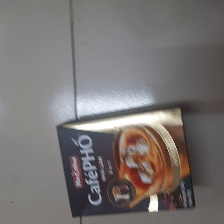CF pho: (54, 104, 197, 219)
